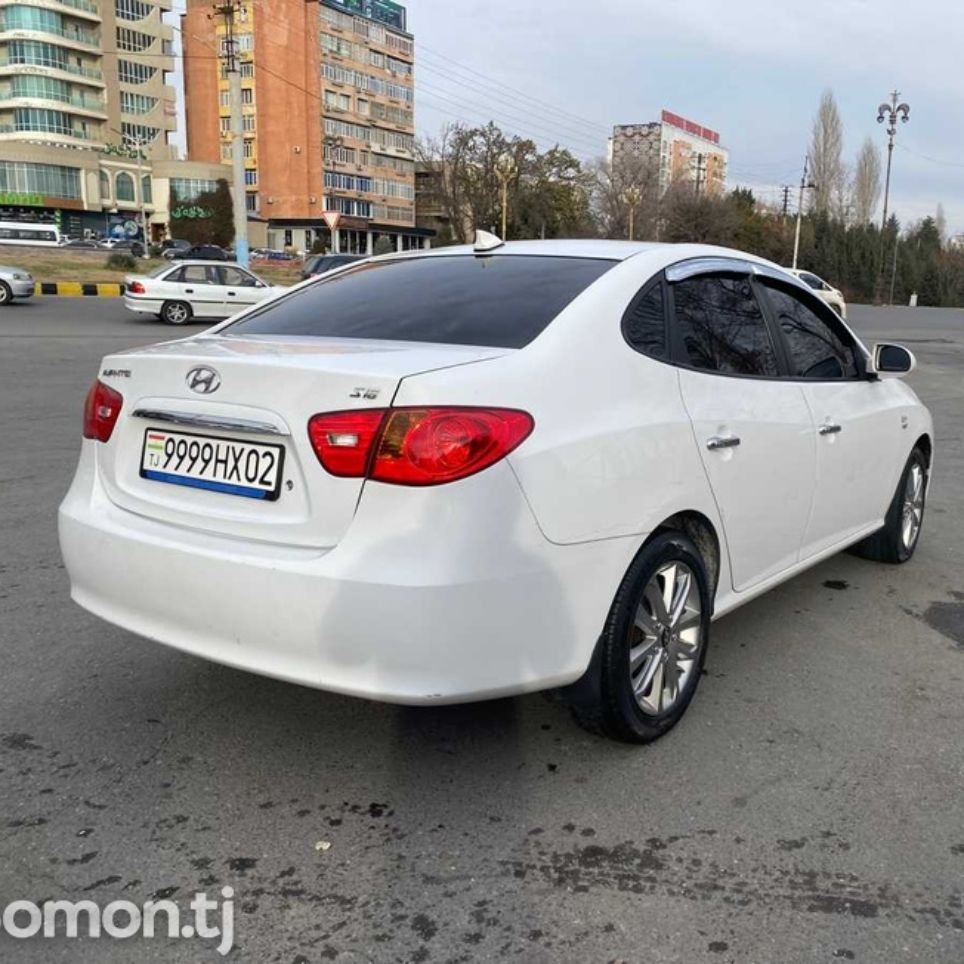license plate: (141, 429, 280, 498)
truck: (58, 235, 934, 731)
